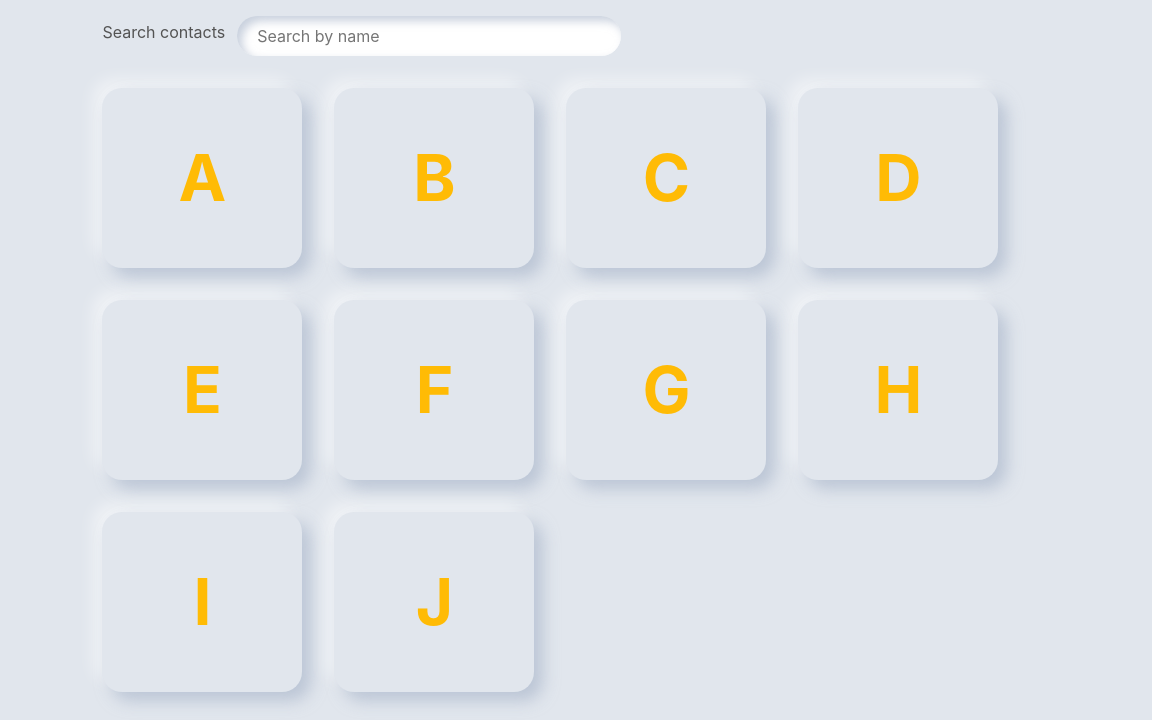
Test: remove confirmation › a removal can be started again after being canceled
The width and height of the screenshot is (1152, 720).
Click the button "D" at (898, 178), box [798, 88, 998, 268]
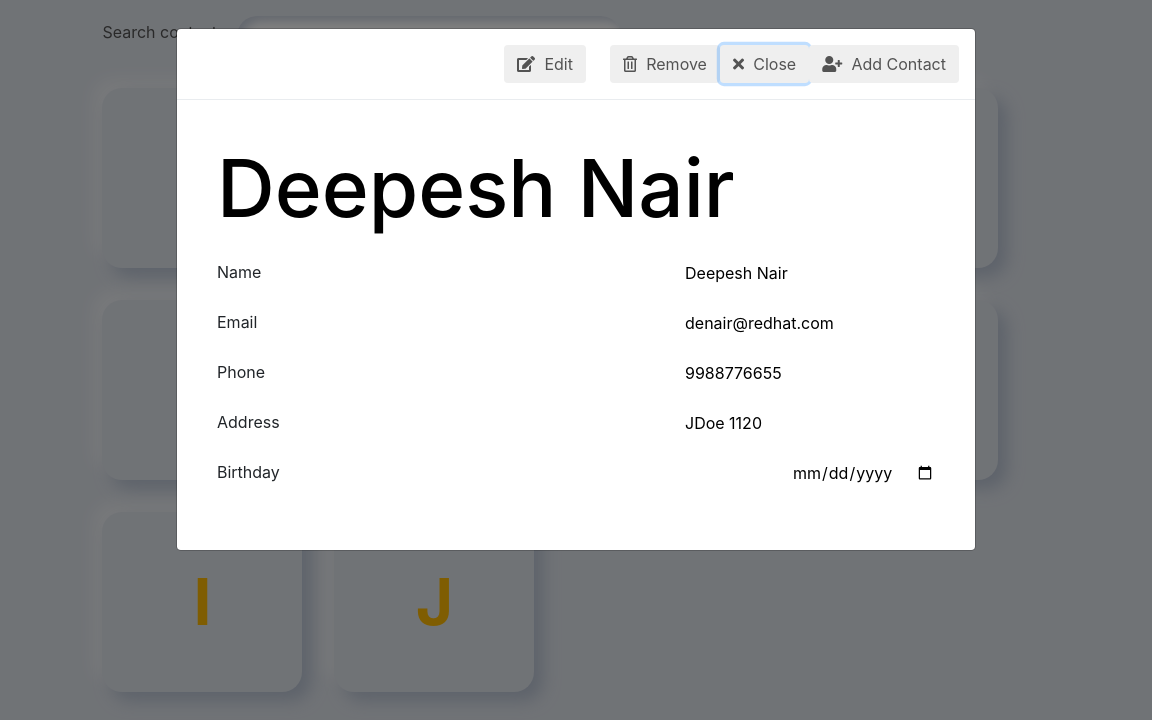
Click the button "Remove" at (665, 64), box [610, 45, 720, 83]
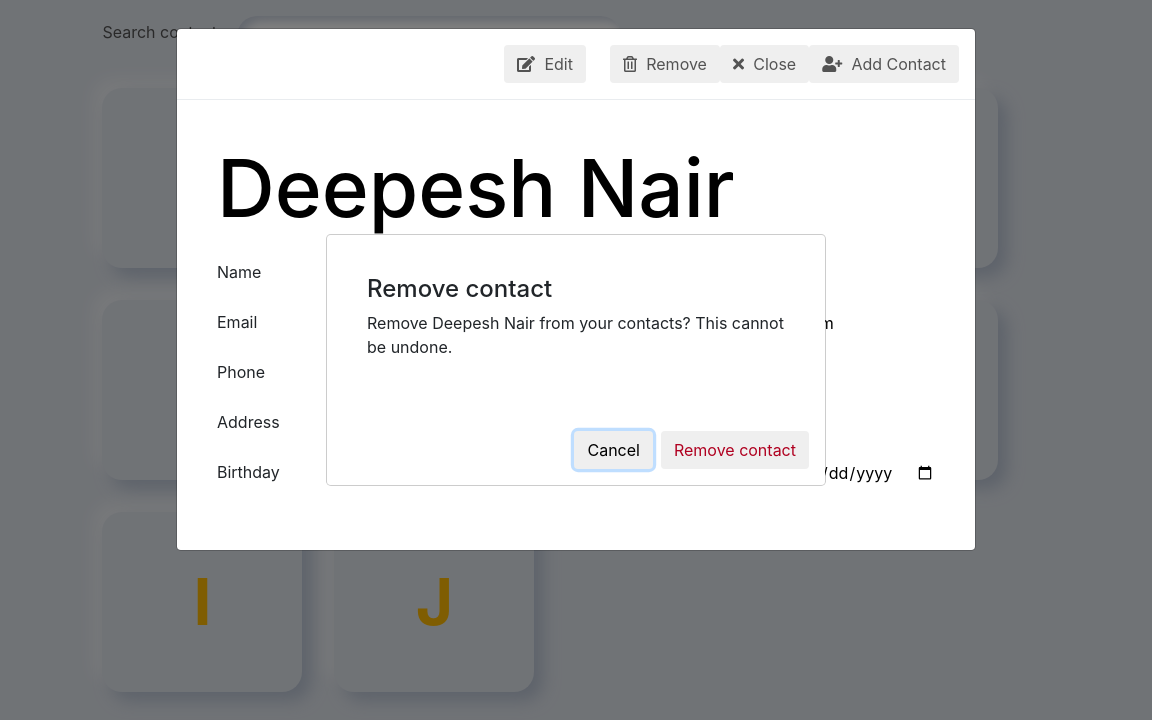
Click the button "Cancel" at (614, 450), box [574, 431, 653, 469]
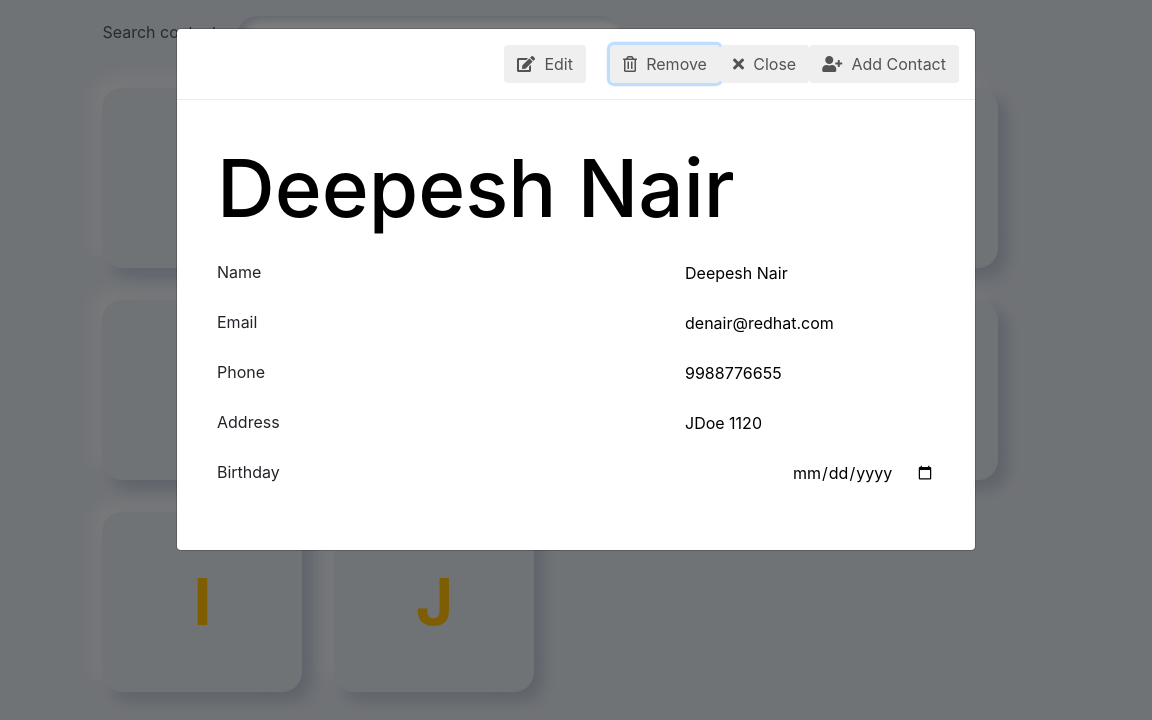
Click the button "Remove" at (665, 64), box [610, 45, 720, 83]
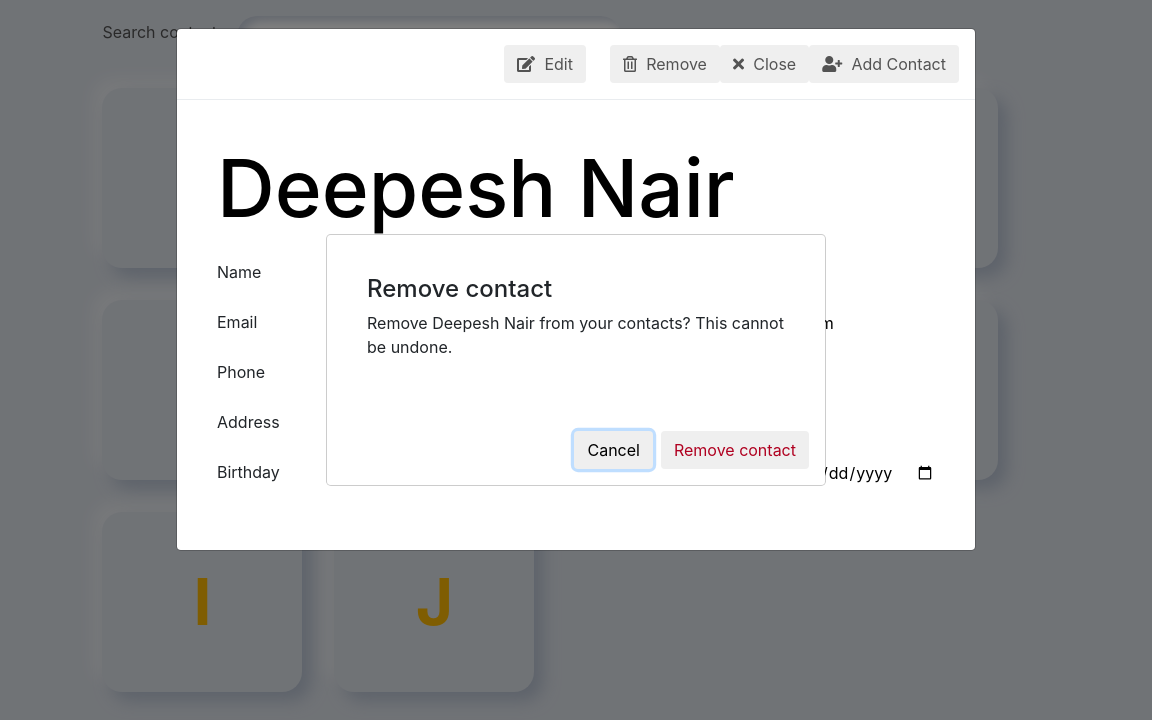
Check: the dialog that starts with "Remove contact" is shown, box [326, 234, 826, 486]
